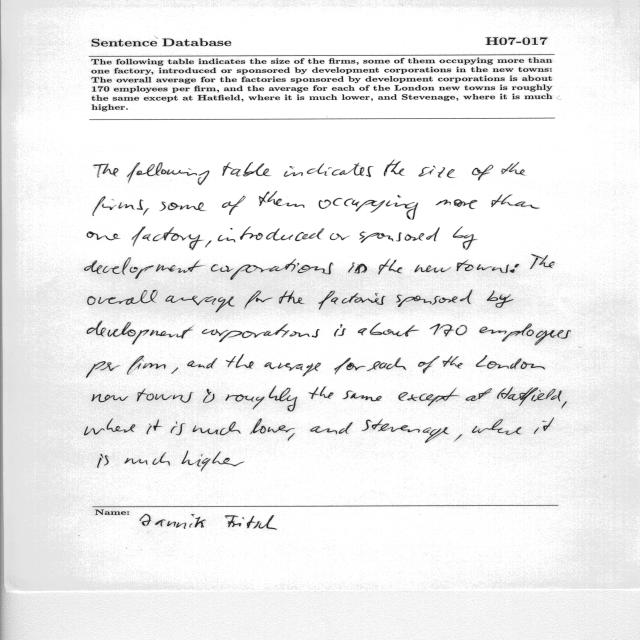word: (84, 257, 204, 279), (211, 259, 333, 280), (319, 195, 418, 220), (87, 321, 193, 344), (202, 324, 320, 342), (362, 419, 449, 443), (479, 324, 571, 346), (128, 162, 210, 185), (226, 387, 298, 412), (132, 226, 203, 250), (218, 227, 324, 243), (359, 227, 440, 243), (396, 290, 472, 307), (319, 291, 385, 310), (284, 163, 373, 177), (497, 387, 562, 406), (165, 296, 235, 313), (399, 388, 459, 406), (88, 290, 158, 305), (93, 196, 143, 216), (476, 355, 545, 369), (85, 419, 136, 436), (358, 323, 419, 337), (137, 388, 193, 403), (264, 363, 321, 377), (472, 419, 521, 435), (259, 191, 304, 208), (127, 356, 166, 375), (250, 418, 295, 434), (456, 260, 509, 273), (222, 162, 271, 176), (491, 195, 540, 209), (124, 452, 170, 466), (192, 422, 241, 435), (182, 451, 211, 472), (453, 226, 477, 250), (87, 361, 120, 378), (245, 290, 273, 309), (335, 358, 366, 375), (310, 422, 353, 434), (367, 358, 406, 371), (430, 324, 467, 337), (212, 452, 244, 467), (222, 196, 246, 215), (487, 291, 513, 308), (342, 391, 382, 402), (419, 166, 455, 178), (436, 199, 478, 209), (161, 202, 206, 211), (226, 354, 253, 369), (378, 259, 402, 275), (418, 356, 440, 373), (530, 254, 554, 269), (94, 164, 119, 178), (534, 417, 554, 434), (466, 388, 492, 401), (279, 291, 304, 304), (384, 160, 404, 176), (472, 165, 493, 180), (501, 163, 525, 176), (188, 358, 218, 368), (309, 387, 334, 399), (87, 232, 120, 241), (414, 265, 451, 273), (92, 394, 128, 402), (443, 357, 463, 369), (146, 420, 162, 435), (348, 262, 367, 274), (170, 422, 185, 435), (203, 389, 215, 403), (334, 324, 346, 337), (98, 454, 109, 468), (330, 234, 349, 241), (510, 264, 519, 273), (288, 433, 295, 441), (455, 434, 462, 441), (144, 209, 150, 216), (206, 241, 212, 248), (172, 367, 178, 374), (561, 402, 567, 409)
